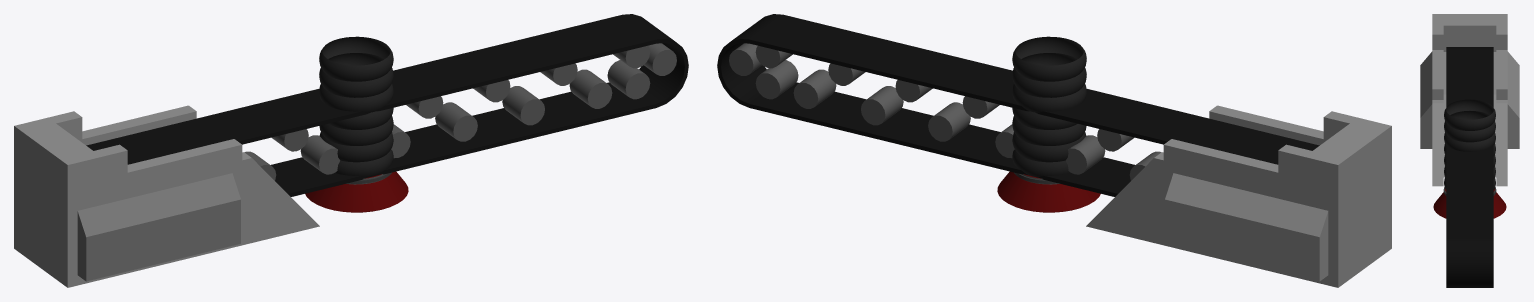
The model's file is ConveyorParts.fbx.
The picture shows the model from 3 angles, left to right: view 1: azimuth 30°, elevation 25°; view 2: azimuth 150°, elevation 25°; view 3: azimuth 270°, elevation 25°; orthographic projection. The views are drawn at different scales.
Parts seen in each view (by area): view 1: SM_Conveyor_Belt, SM_Conveyor_Tube; view 2: SM_Conveyor_Belt, SM_Conveyor_Tube; view 3: SM_Conveyor_Belt, SM_Conveyor_Tube.
Boxes of the visible parts, x1,y1,x2,y2 form: SM_Conveyor_Belt: [14, 14, 688, 287]; SM_Conveyor_Tube: [305, 36, 408, 212]; SM_Conveyor_Belt: [717, 14, 1391, 287]; SM_Conveyor_Tube: [997, 36, 1100, 212]; SM_Conveyor_Belt: [1420, 14, 1519, 287]; SM_Conveyor_Tube: [1433, 99, 1506, 218].
Size of the model in its own units: 422 by 99.08 by 82.02.
